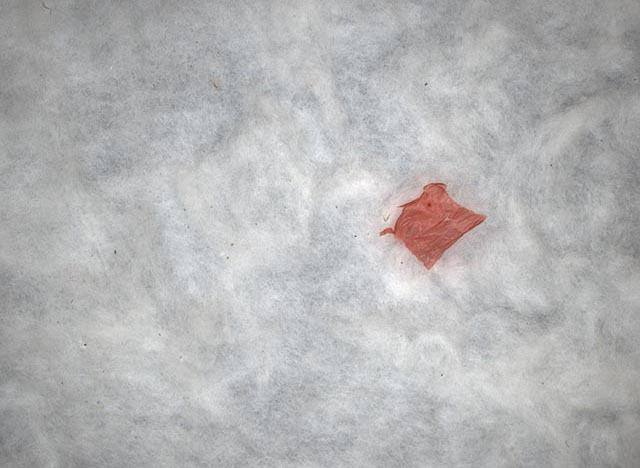plastic film: (379, 181, 487, 269)
